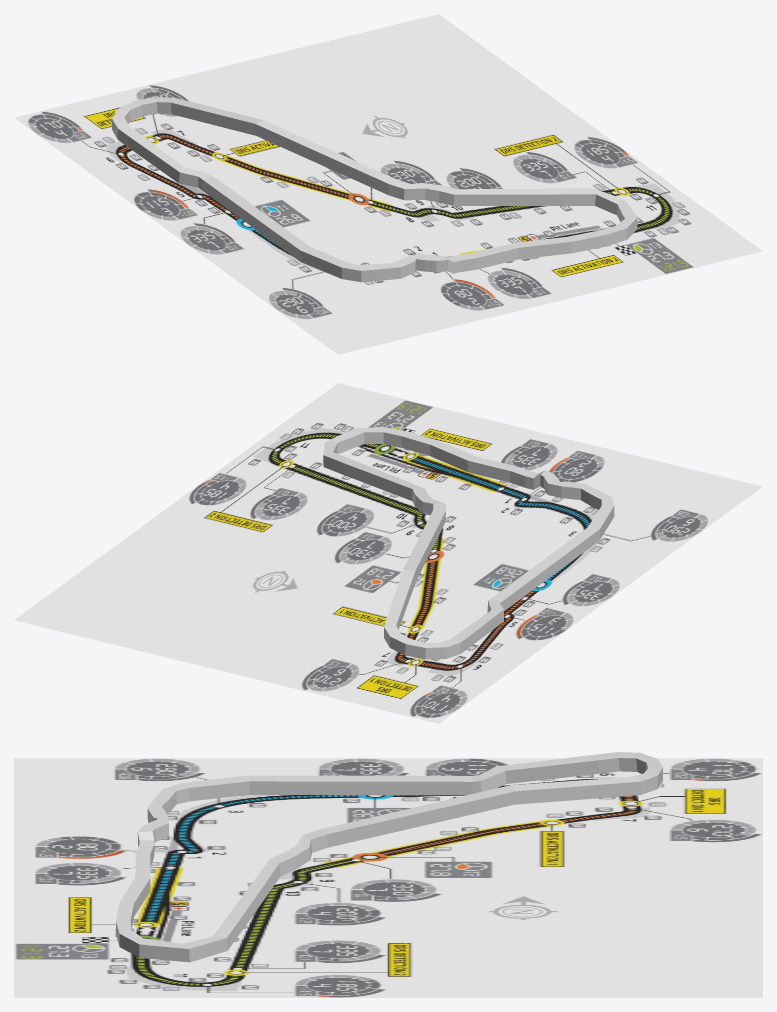
Rendered from Monza_circuit.fbx.
3 views of the same model, one above another, from view 1: azimuth 30°, elevation 25°; view 2: azimuth 150°, elevation 25°; view 3: azimuth 270°, elevation 25° (orthographic). The views are drawn at different scales.
Visible parts, largest first — view 1: Plane001, Box001; view 2: Plane001, Box001; view 3: Plane001, Box001.
Boxes of the visible parts, x1,y1,x2,y2 form: Plane001: [14, 14, 762, 354]; Box001: [112, 97, 637, 282]; Plane001: [14, 383, 762, 723]; Box001: [323, 427, 614, 659]; Plane001: [14, 758, 762, 997]; Box001: [116, 752, 662, 962].
Bounding box in the file's own units: 71.35 × 6.67 × 94.27.
Materials: 1 (1 with a texture image).
